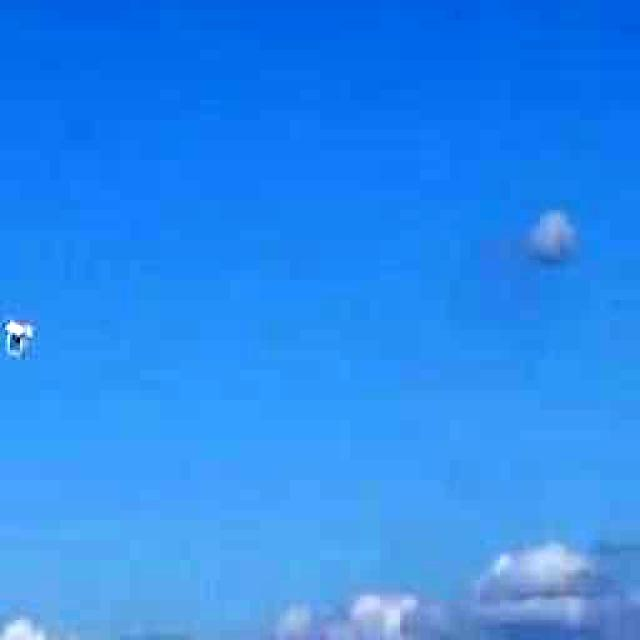bird: (0, 292, 46, 378)
